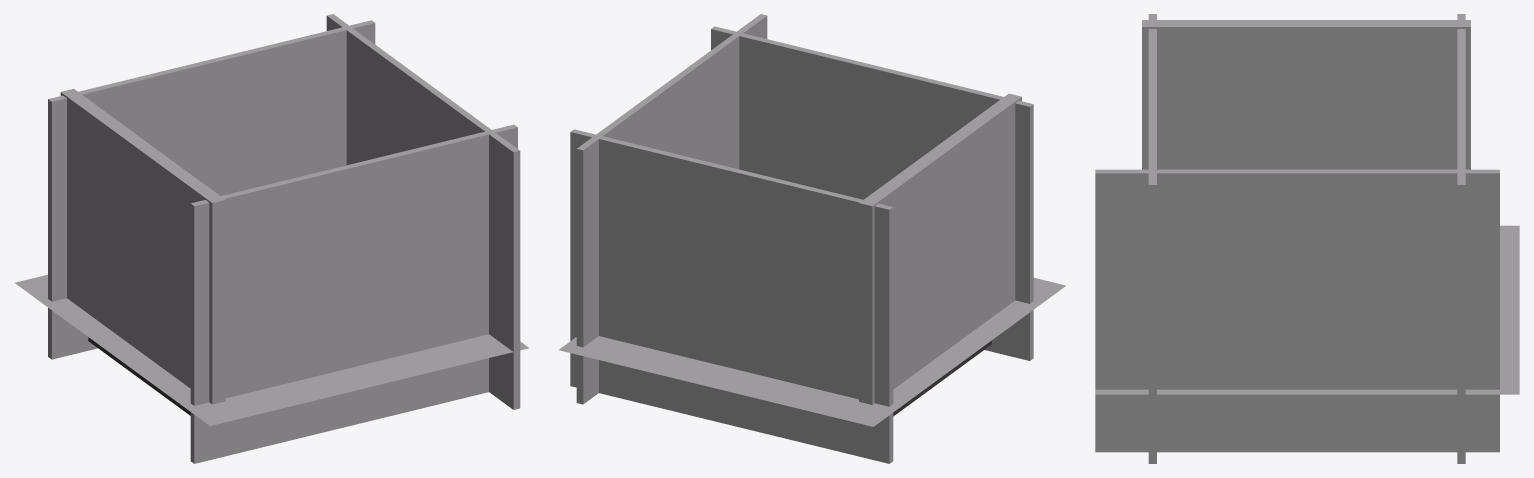
The model's file is stage.fbx.
3 views of the same model, side by side, from view 1: azimuth 30°, elevation 25°; view 2: azimuth 150°, elevation 25°; view 3: azimuth 270°, elevation 25° (orthographic). The views are drawn at different scales.
Parts seen in each view (by area): view 1: Box003, Box002, box, Box004, Plane001; view 2: Box002, Box003, box, Box004, Plane001; view 3: Box004, box, Plane001, Box002, Box003.
Part boxes in pixels (bbox=[...]): Box003: bbox=[190, 124, 517, 463]; Box002: bbox=[48, 20, 375, 359]; box: bbox=[60, 88, 225, 404]; Box004: bbox=[326, 14, 520, 409]; Plane001: bbox=[14, 274, 529, 425]; Box002: bbox=[570, 129, 893, 463]; Box003: bbox=[711, 26, 1033, 360]; box: bbox=[859, 93, 1021, 404]; Box004: bbox=[576, 14, 767, 404]; Plane001: bbox=[559, 277, 1065, 426]; Box004: bbox=[1095, 169, 1499, 452]; box: bbox=[1142, 20, 1470, 169]; Plane001: bbox=[1095, 225, 1519, 394]; Box002: bbox=[1457, 14, 1465, 463]; Box003: bbox=[1148, 14, 1156, 463].
Bounding box in the file's own units: 4610 × 3439 × 4705.
